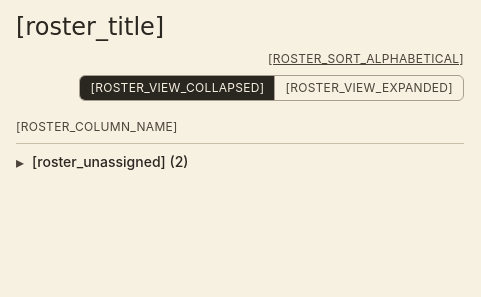
Test case: (A) deactivate — admin-only, never self (done-when 7) › a NON-admin member sees no deactivate control anywhere
Click the button with test id "section-toggle-unassigned": (110, 162) [16, 144, 464, 180]
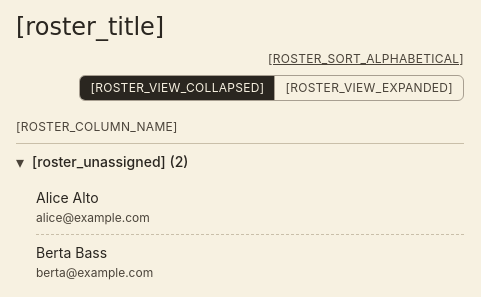
Check: the list item with test id "roster-row-m2" is shown, box [36, 244, 153, 280]
